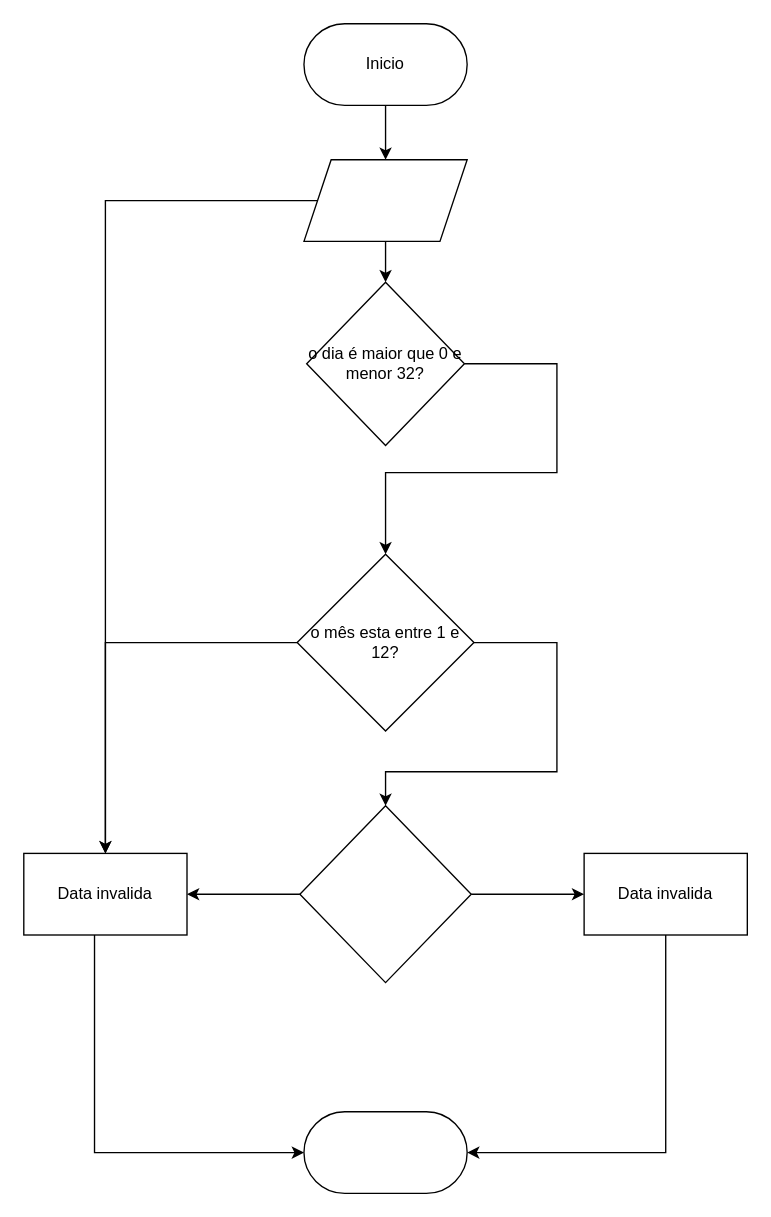
This 771x1217 diagram has some shape labels left out. Each missing label, with the centre of its shape:
dia, mês, ano: the point at 385,199
fim: the point at 385,1151
o ano é menor que o ano atual?: the point at 385,893
